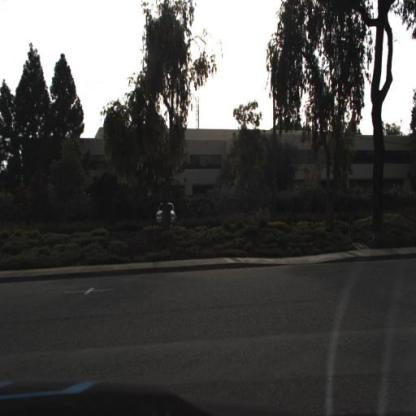car: (154, 199, 178, 228)
